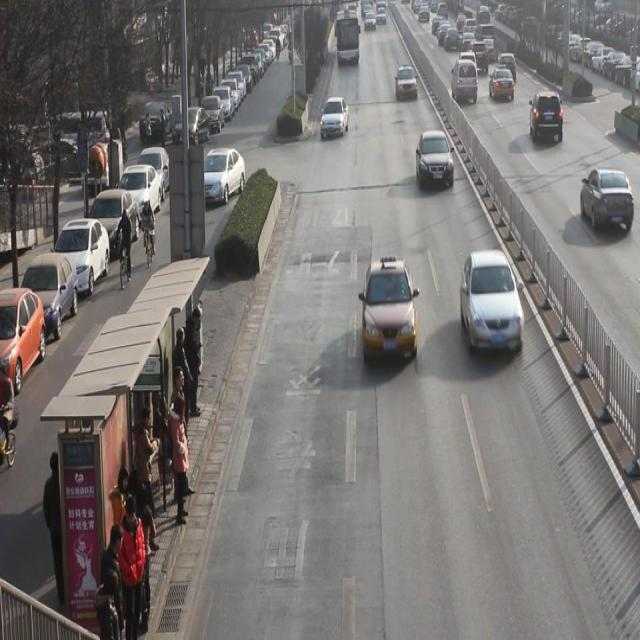car: (461, 249, 524, 353), (364, 255, 416, 364), (579, 167, 640, 234), (194, 143, 246, 204), (416, 129, 454, 191), (529, 89, 564, 143), (320, 95, 350, 137), (489, 64, 515, 102), (395, 64, 418, 100), (500, 53, 517, 80), (474, 40, 489, 70), (484, 36, 499, 62), (478, 23, 495, 45), (445, 26, 461, 49), (460, 31, 477, 51), (439, 22, 452, 44), (478, 1, 491, 23), (364, 10, 376, 31), (376, 1, 386, 24), (460, 51, 477, 62), (466, 21, 480, 34), (456, 11, 468, 26)
truck: (452, 58, 478, 102)
van: (334, 9, 358, 66)
